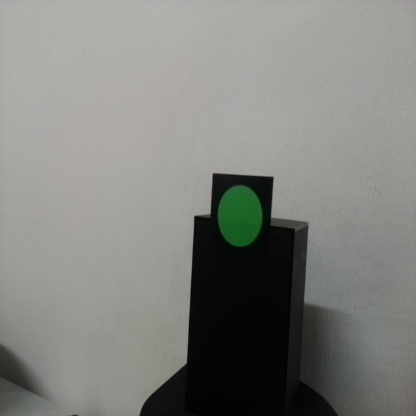id_5: (212, 175, 272, 260)
